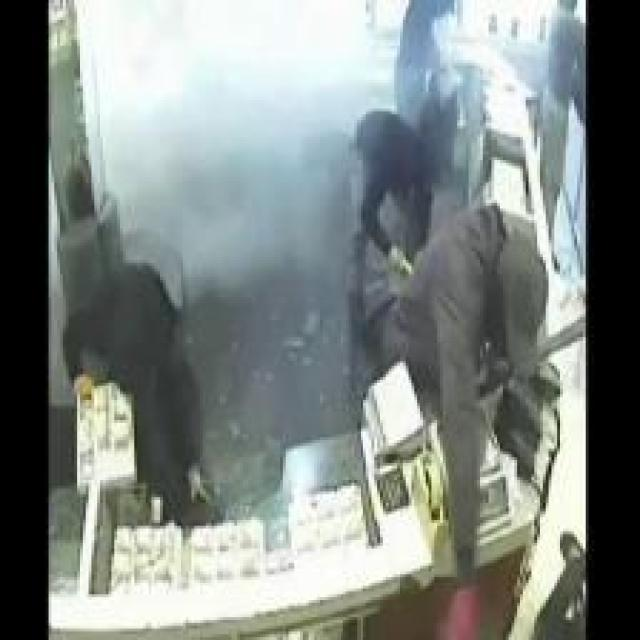fire: (71, 4, 380, 293)
